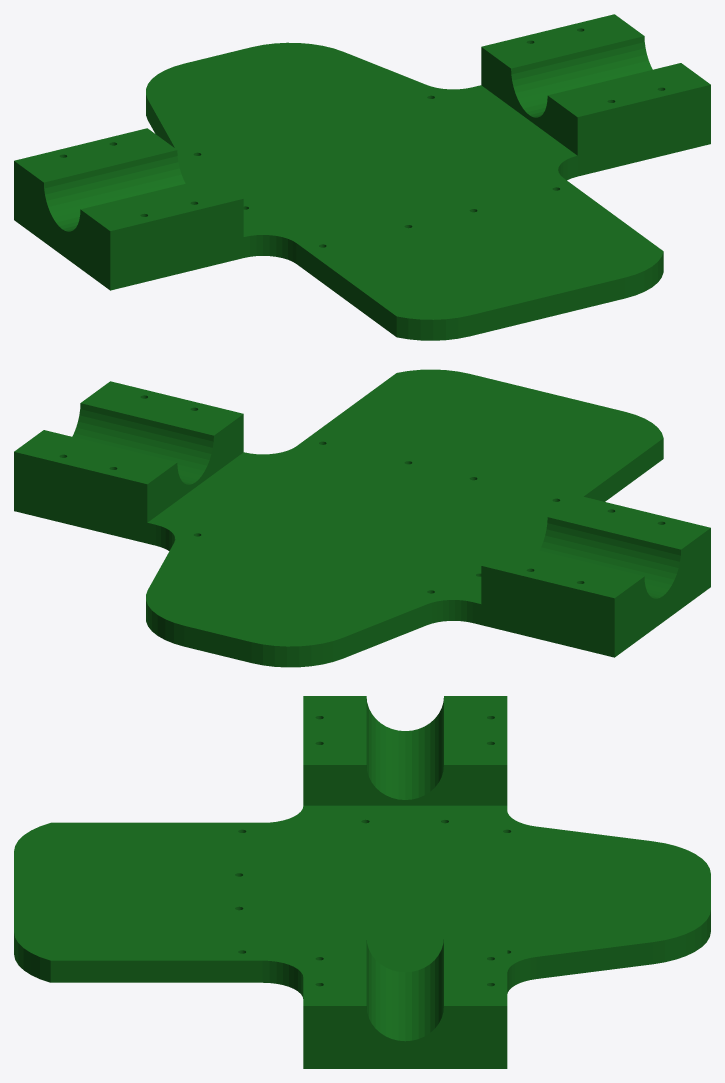
File: middle.dae
3 renders of one model, top to bottom at view 1: azimuth 30°, elevation 25°; view 2: azimuth 150°, elevation 25°; view 3: azimuth 270°, elevation 25°, orthographic. The views are drawn at different scales.
Parts seen in each view (by area): view 1: Middle; view 2: Middle; view 3: Middle.
Boxes of the visible parts, x1,y1,x2,y2 form: Middle: [14, 14, 710, 340]; Middle: [14, 369, 710, 667]; Middle: [14, 696, 710, 1068].
Size of the model in its own units: 0.18 by 0.171 by 0.017.
